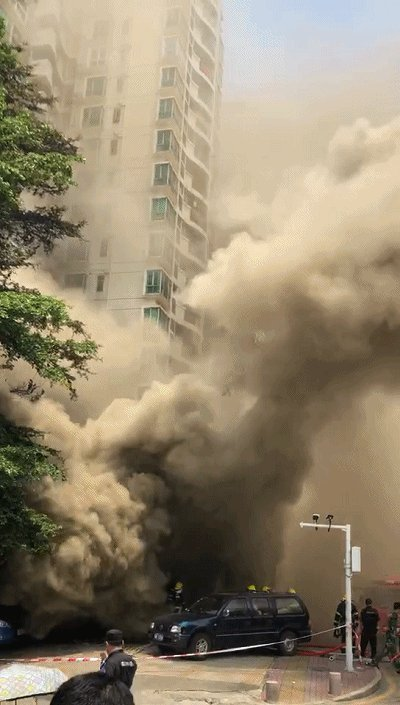smoke: (39, 159, 400, 578)
